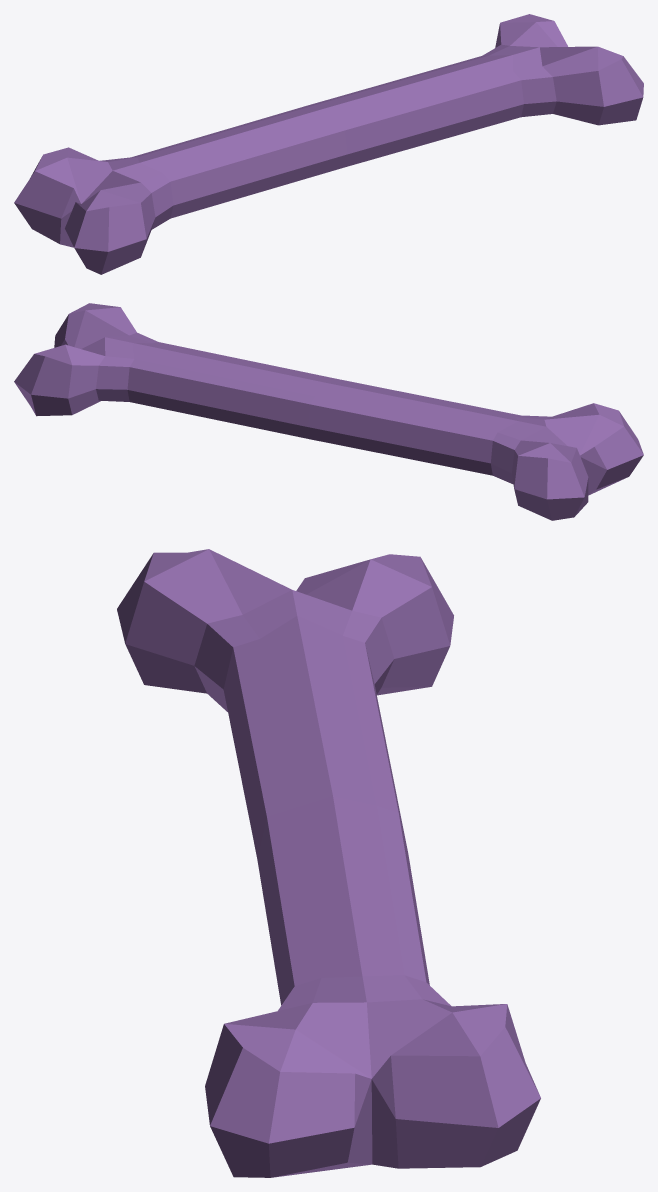
File: SM_Bone.fbx
The picture shows the model from 3 angles, top to bottom: view 1: azimuth 30°, elevation 25°; view 2: azimuth 150°, elevation 25°; view 3: azimuth 270°, elevation 25°; orthographic projection. The views are drawn at different scales.
Parts seen in each view (by area): view 1: Bone; view 2: Bone; view 3: Bone.
Part boxes in pixels (box(x1,y1,x2,y2)): Bone: box(14, 14, 643, 274); Bone: box(14, 303, 643, 520); Bone: box(117, 549, 540, 1177).
Size of the model in its own units: 39.16 by 4.66 by 12.76.
